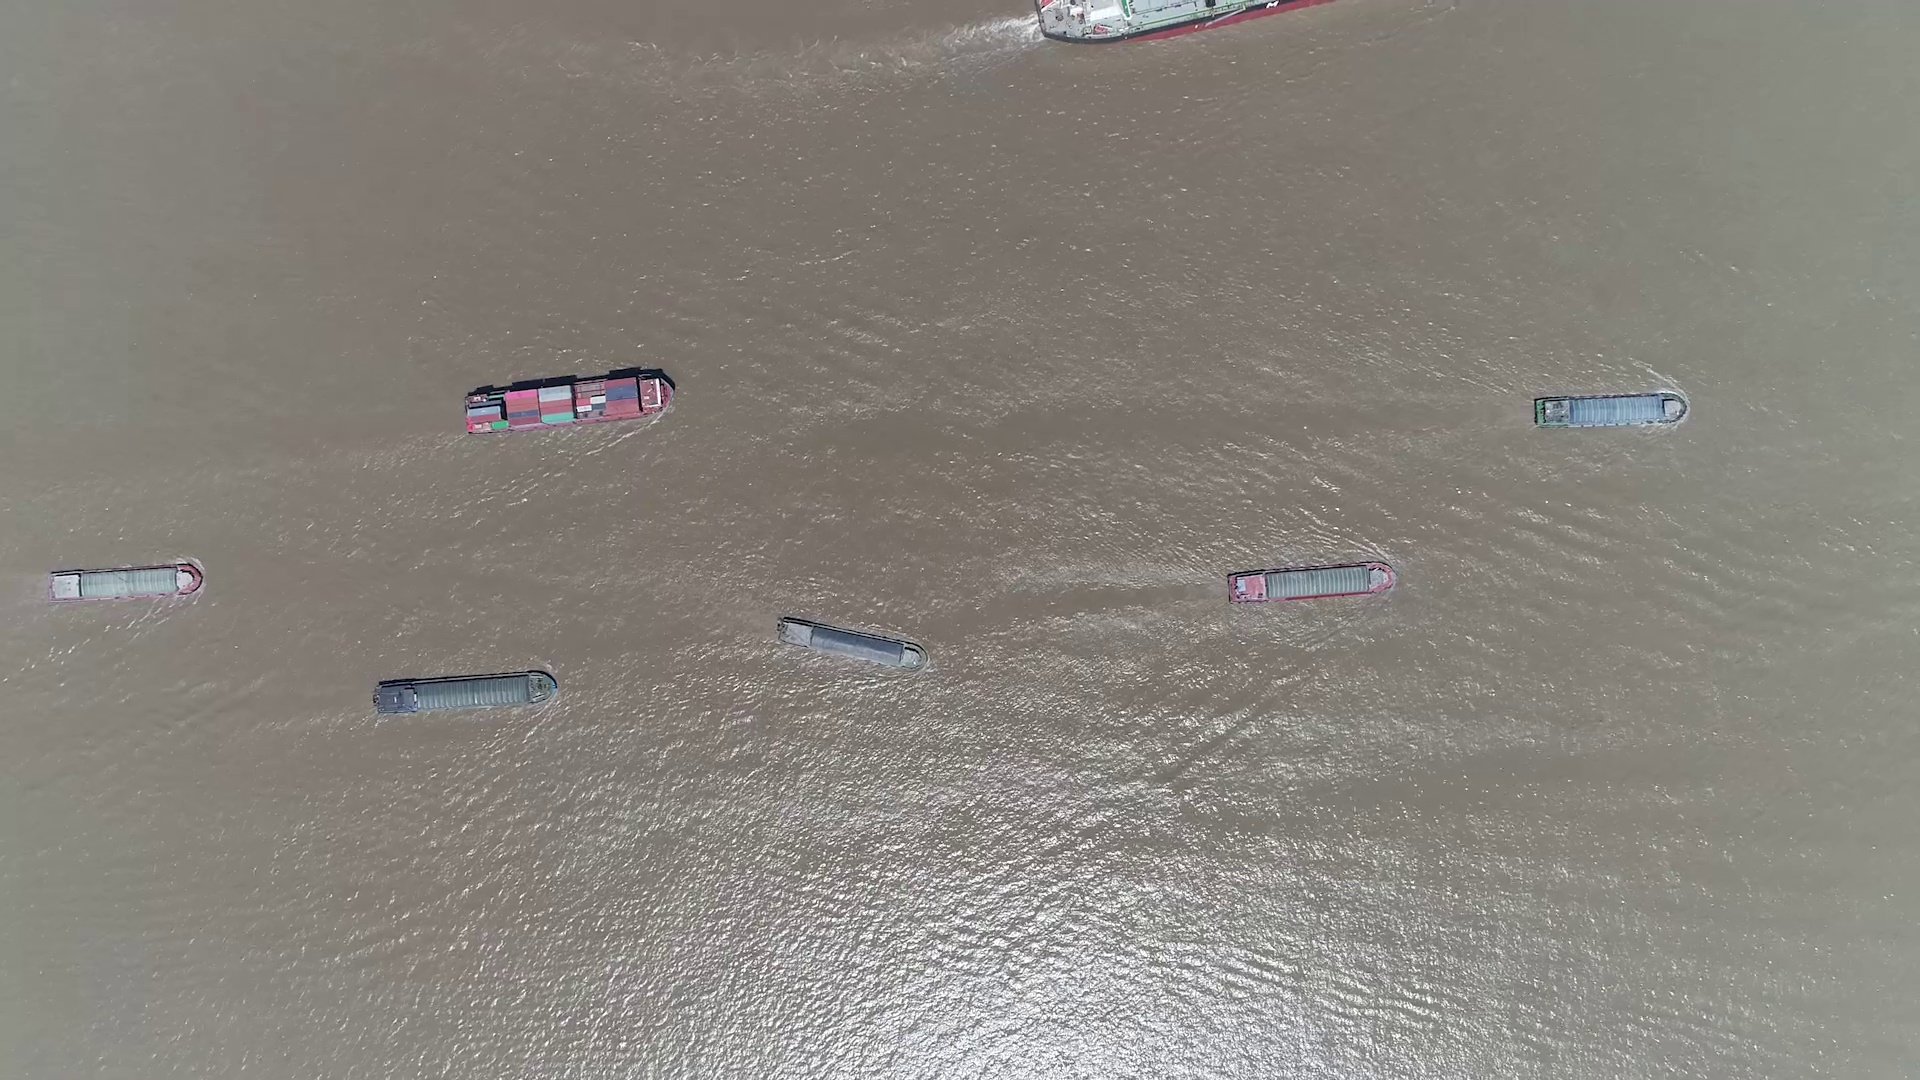ship: (462, 368, 675, 434), (1036, 0, 1327, 44), (373, 670, 556, 717), (779, 616, 927, 669), (1228, 560, 1396, 604), (47, 564, 204, 603), (1534, 394, 1687, 429)
